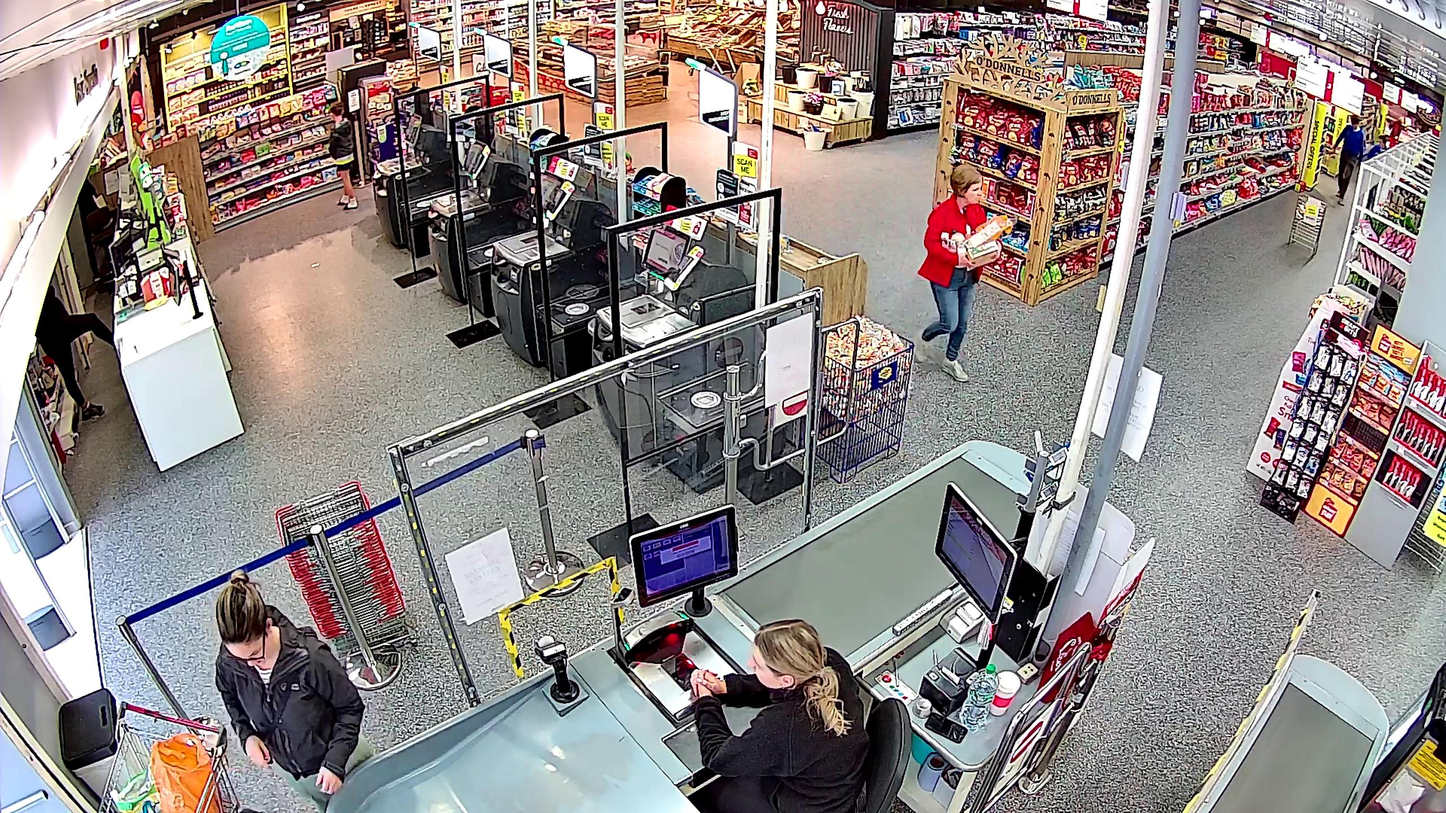carrying-item: (939, 215, 1011, 270)
occupied-checkout-counter: (531, 474, 1041, 813)
person: (912, 163, 988, 382)
person-with-carrying-item: (913, 162, 1012, 382)
